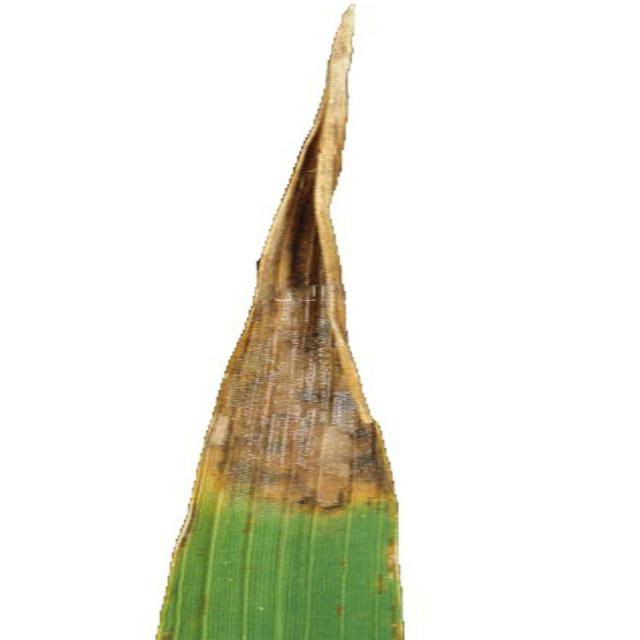Leaf scald: (102, 3, 496, 640)
